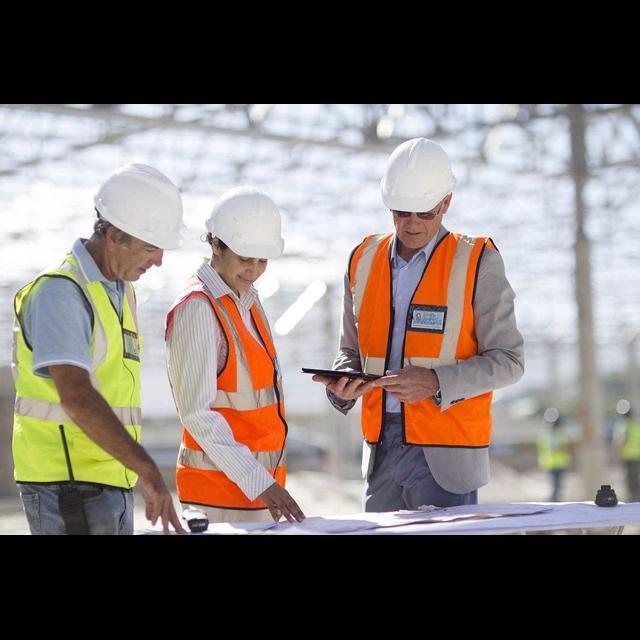Capacete: (94, 163, 185, 248), (206, 186, 283, 258), (381, 138, 455, 211)
Colete: (13, 254, 140, 488), (166, 282, 286, 486), (402, 233, 494, 368), (537, 429, 570, 470), (622, 420, 639, 460)
